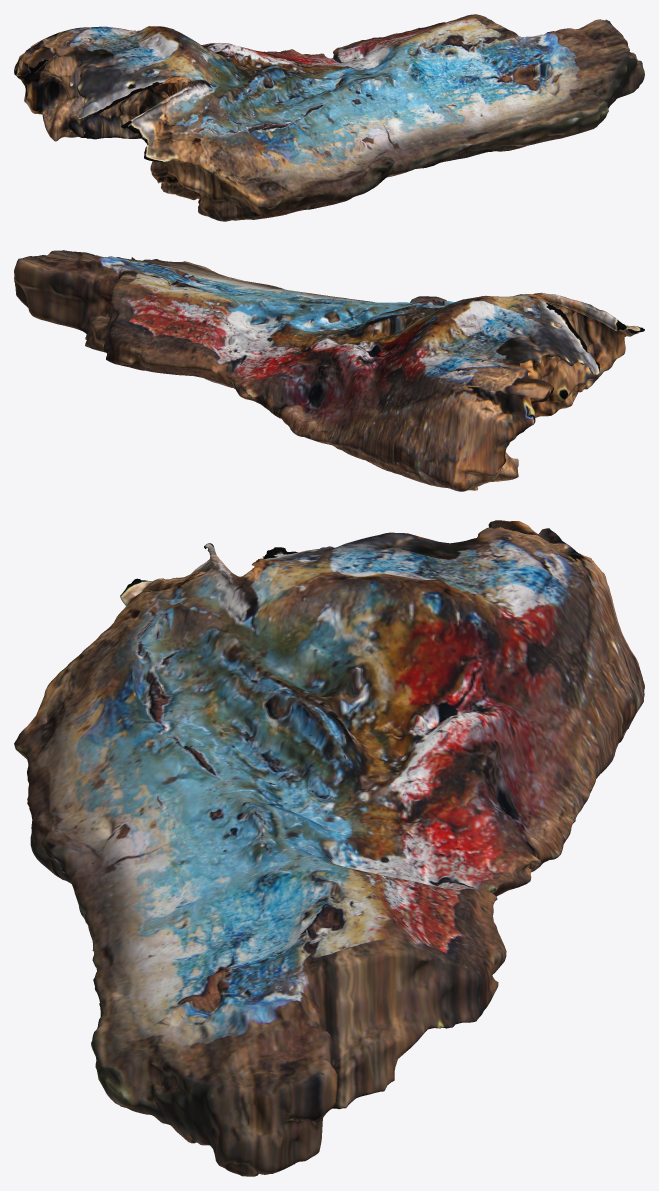
The model's file is kirschbaumholz.glb.
The picture shows the model from 3 angles, top to bottom: view 1: azimuth 30°, elevation 25°; view 2: azimuth 150°, elevation 25°; view 3: azimuth 270°, elevation 25°; orthographic projection. The views are drawn at different scales.
Parts seen in each view (by area): view 1: kirschbaumholz; view 2: kirschbaumholz; view 3: kirschbaumholz.
Boxes of the visible parts, x1=… form: kirschbaumholz: x1=14, y1=14, x2=644, y2=221; kirschbaumholz: x1=14, y1=250, x2=644, y2=491; kirschbaumholz: x1=14, y1=520, x2=644, y2=1176.
Bounding box in the file's own units: 4.84 × 1.33 × 2.68.
Materials: 2 (2 with a texture image).
